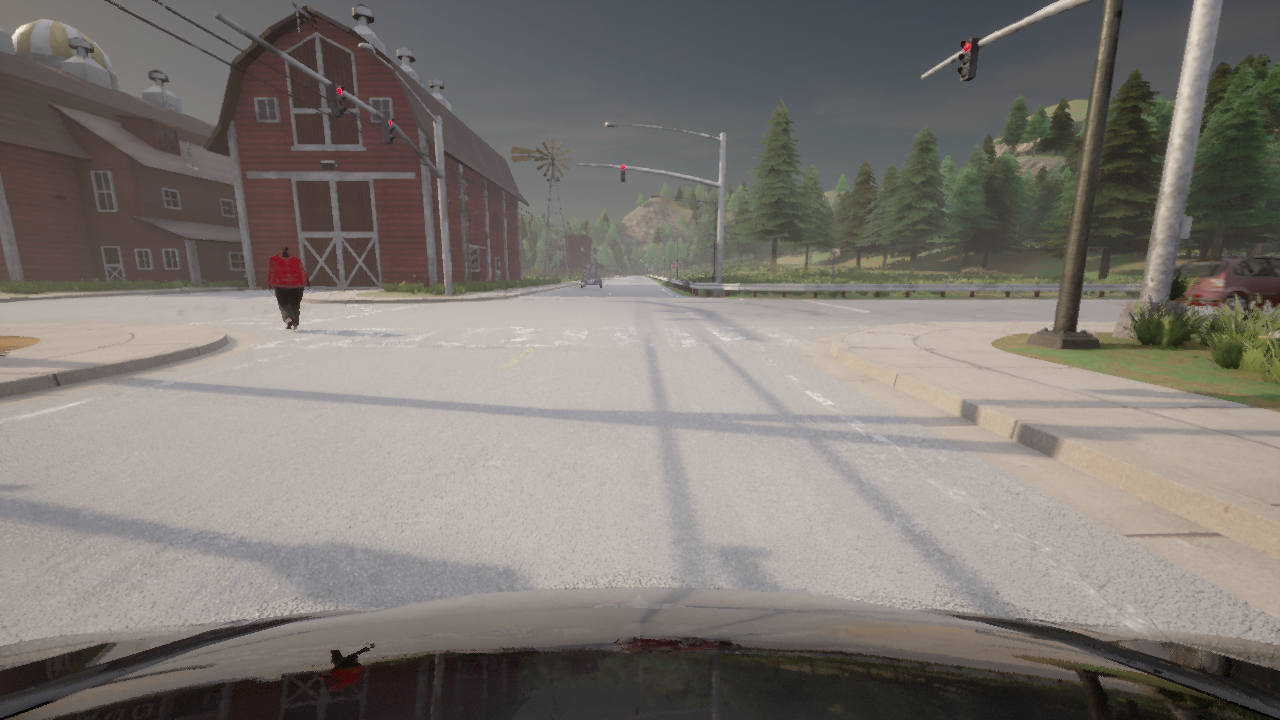cyclist: (0, 588, 1279, 719), (1171, 257, 1279, 316), (580, 269, 602, 288)
pedestrian: (267, 244, 310, 329)
